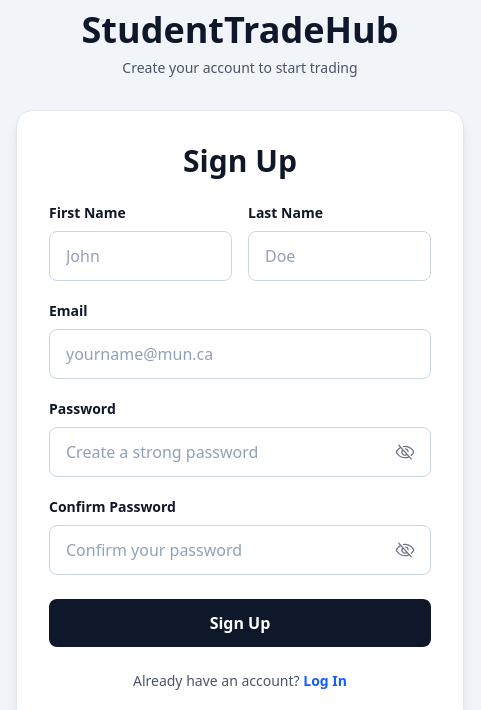
Scenario: SignUp Component › shows password strength indicator
# Type a weak password
In the password field labelled "Password": [240, 452] box [49, 427, 431, 477], type "pass"
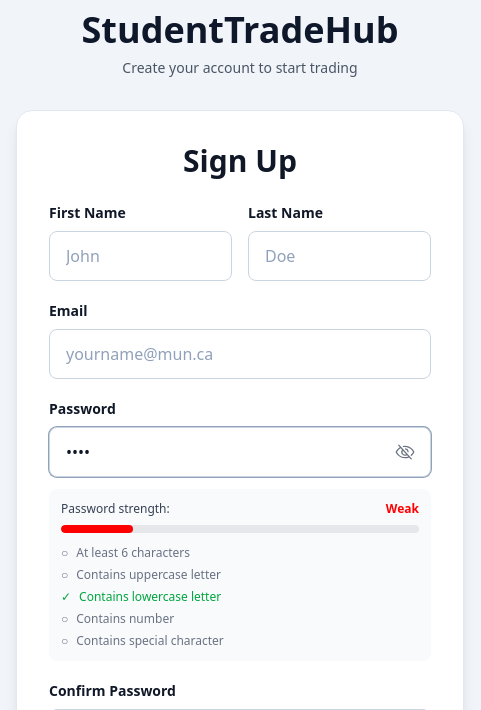
Expected: the text "Password strength:" is shown, [61, 501, 170, 517]
Expected: the text "Weak" is shown, [386, 501, 419, 517]
